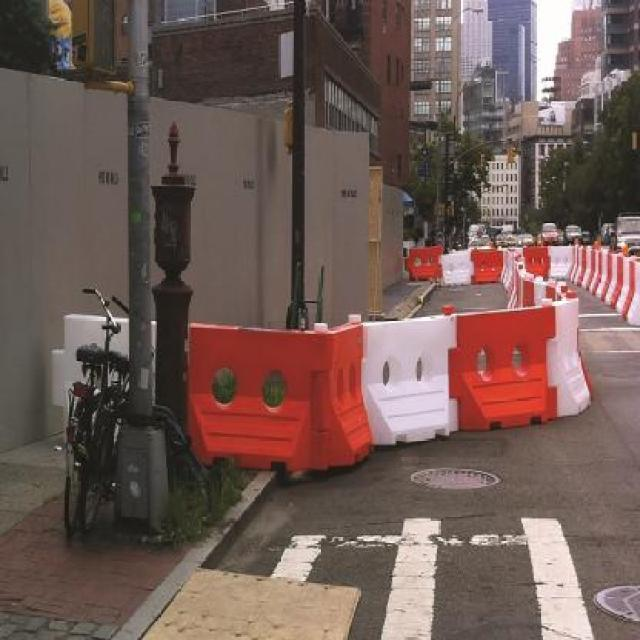fallen_object: (165, 312, 374, 484), (346, 290, 557, 453), (39, 290, 176, 468), (512, 233, 640, 337), (400, 245, 550, 323)
